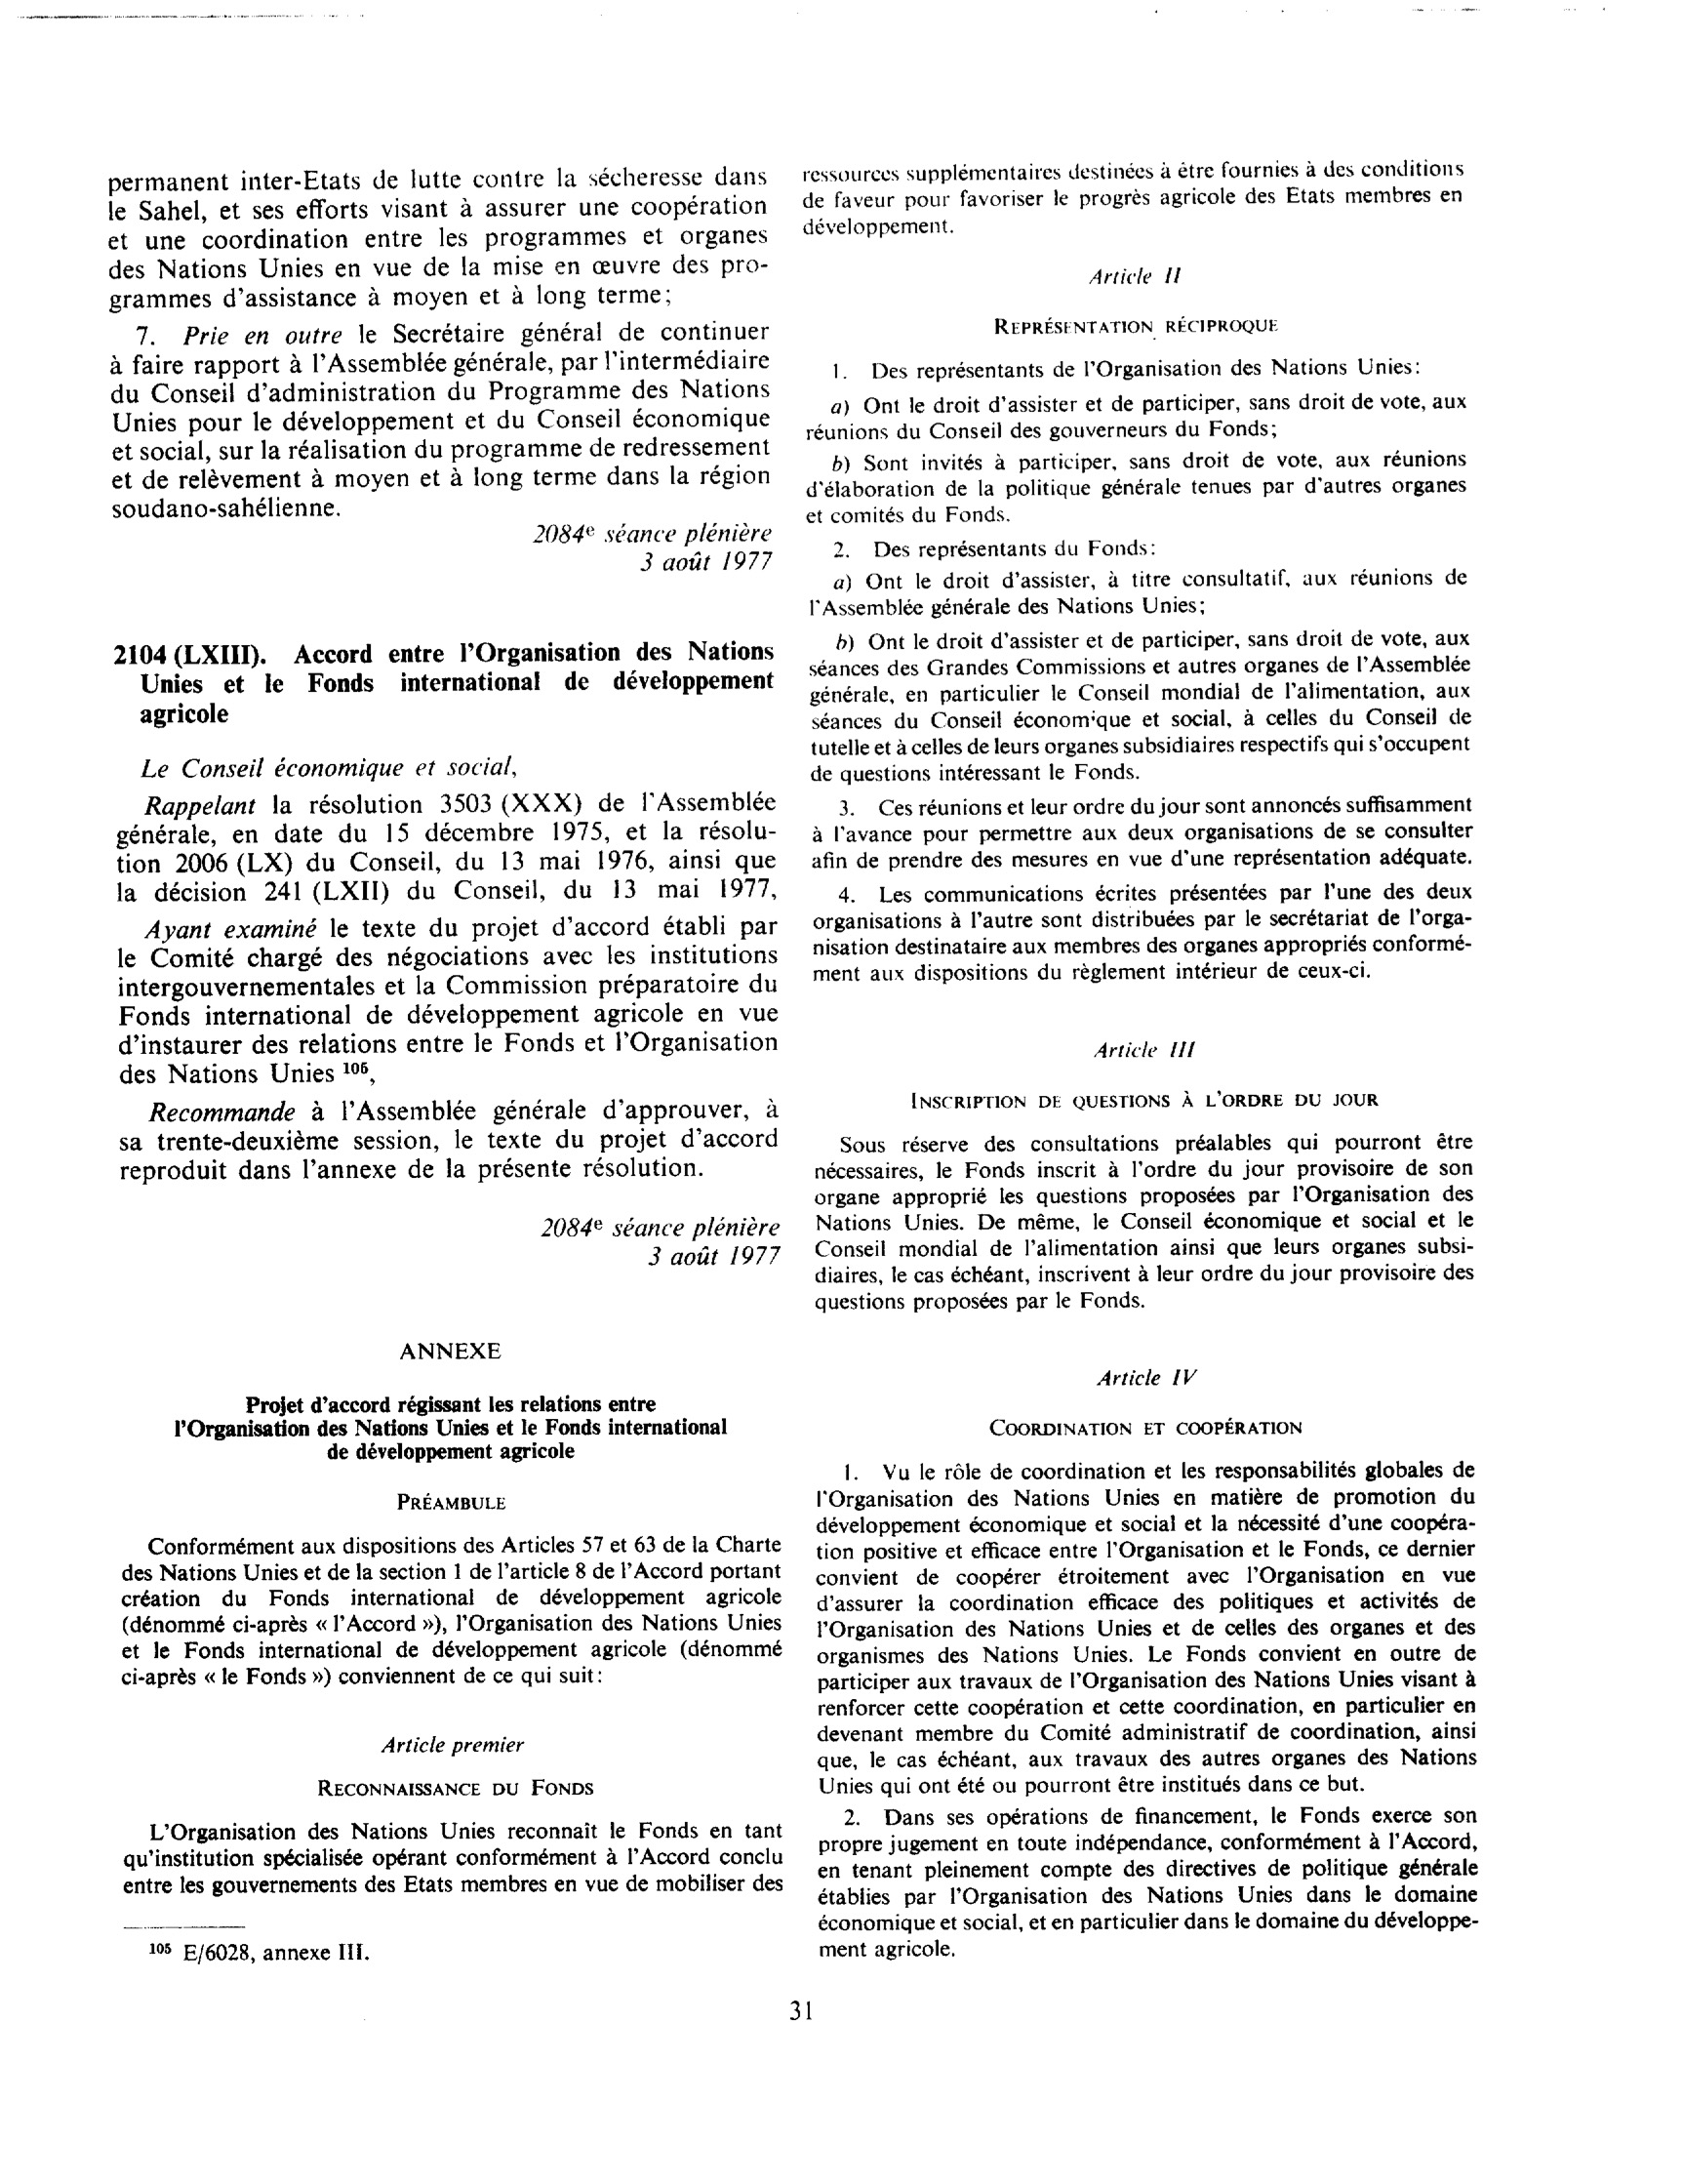MainZone-Continued: (793, 153, 1473, 248)
MainZone-Date: (641, 1243, 779, 1269), (631, 552, 776, 573)
MainZone-Head: (104, 632, 782, 732), (148, 1386, 737, 1468), (903, 1082, 1390, 1118), (111, 749, 527, 784), (983, 1408, 1311, 1445), (986, 308, 1287, 344), (311, 1771, 602, 1806), (375, 1728, 529, 1765), (382, 1330, 515, 1367), (1087, 1030, 1205, 1071), (1083, 257, 1192, 301), (1091, 1357, 1205, 1399), (388, 1485, 515, 1519)
MainZone-ListItem: (809, 1454, 1485, 1800), (100, 315, 778, 526), (813, 1800, 1486, 1968), (804, 626, 1477, 788), (100, 163, 777, 313), (807, 878, 1478, 990), (804, 791, 1478, 876), (796, 447, 1475, 530), (800, 565, 1475, 624), (799, 388, 1473, 444), (804, 351, 1449, 386), (800, 533, 1170, 568)
MainZone-P: (809, 1125, 1482, 1320), (111, 911, 785, 1088), (114, 1529, 789, 1695), (106, 786, 783, 906), (111, 1094, 788, 1192), (115, 1814, 790, 1904)
MainZone-Signature: (525, 518, 781, 553), (531, 1211, 787, 1240)
MarginTextZone-Notes: (138, 1933, 378, 1977)
NumberingZone: (783, 1992, 817, 2033)
